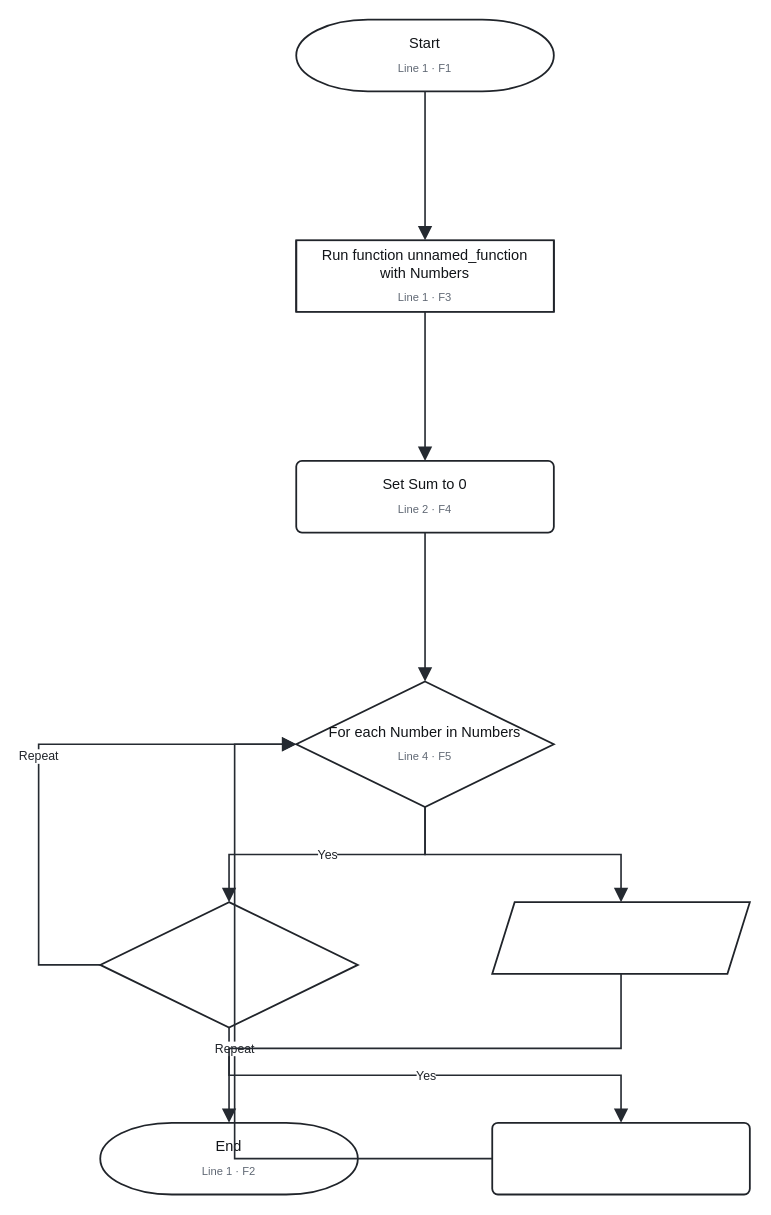
The diagram is 771 pixels wide and 1215 high, and some of its shapes have lost their labels. The shapes that lost their labels are listed below. From the top down, each one's box as (x1, y1, x2, y2) in pixels, then its label:
(491, 901, 750, 974): Display Sum Line 10 · F8
(99, 901, 358, 1028): Number modulo 2 is equal to 0? Line 5 · F6
(491, 1121, 750, 1195): Set Sum to Sum plus Number Line 6 · F7
